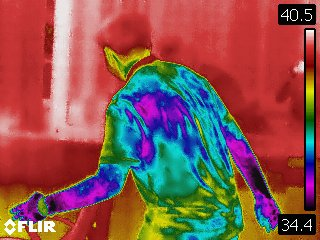human: (9, 9, 289, 234)
